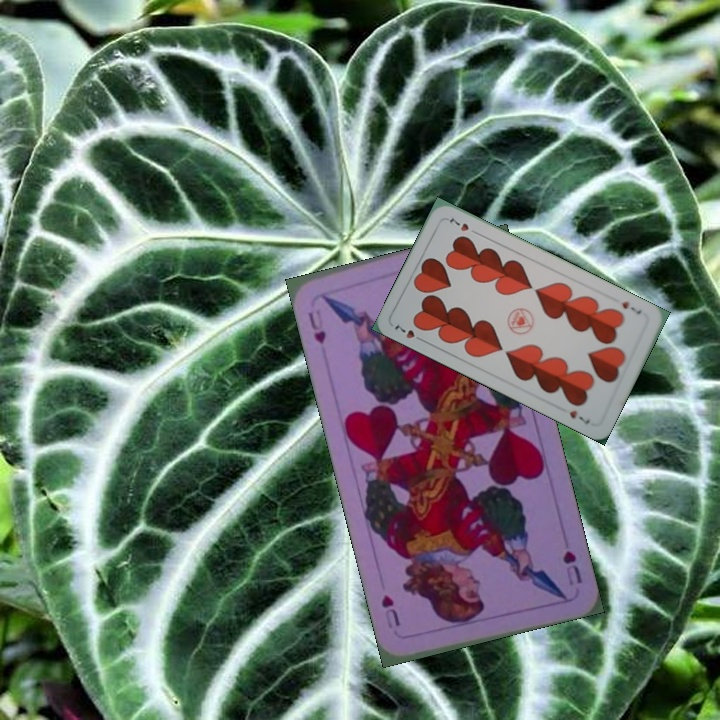H7: (390, 321, 428, 345), (618, 297, 644, 317)
HU: (558, 546, 585, 588), (304, 305, 329, 347)
